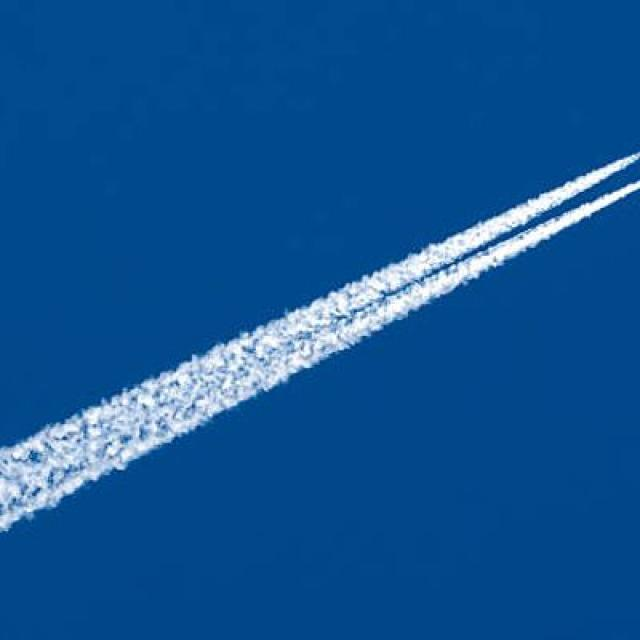Ct: (1, 22, 640, 500)
